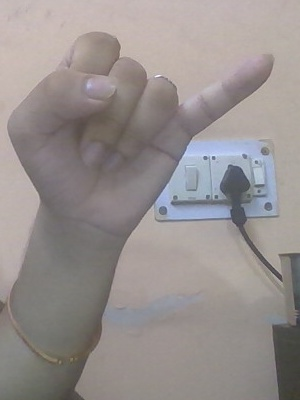J: (54, 24, 280, 250)
